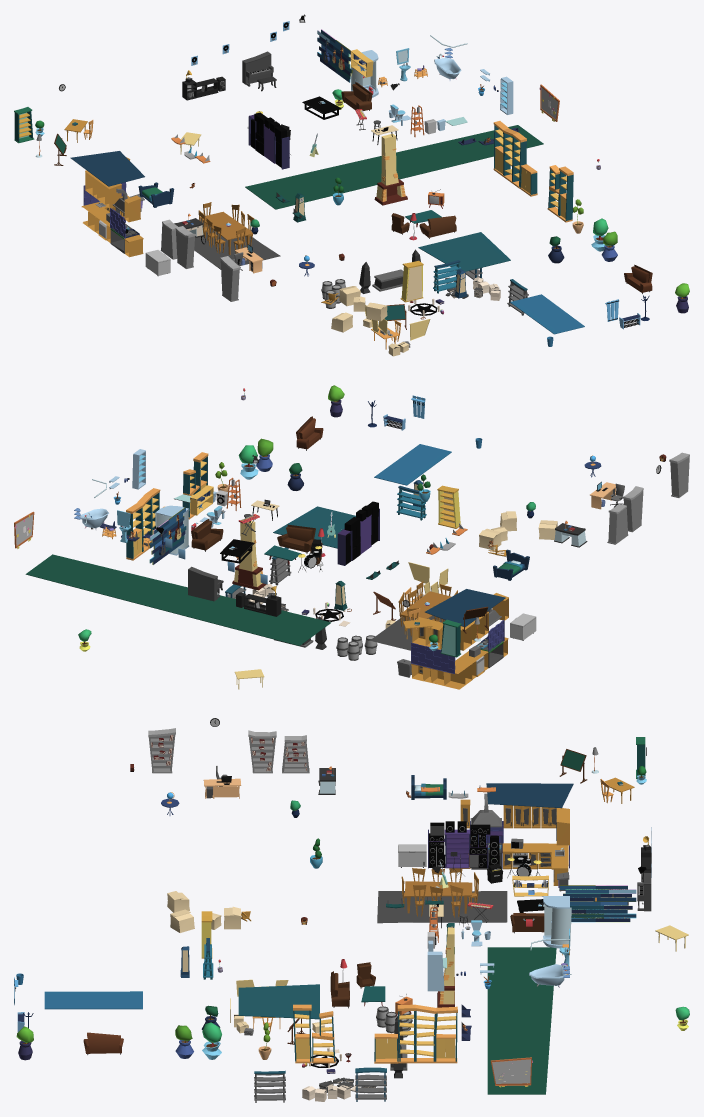
File: static stuff for house.fbx
3 views of the same model, one above another, from view 1: azimuth 30°, elevation 25°; view 2: azimuth 150°, elevation 25°; view 3: azimuth 270°, elevation 25° (orthographic). The views are drawn at different scales.
Visible parts, largest first — view 1: static stuff fork room.003, static stuff kitchen room.003, static stuff living room, static stuff living room.007, static stuff music room.006, static stuff music room.001, static stuff bedroom room.005, static stuff hallway room.005, static stuff living room.010, static stuff kitchen room.004, static stuff living room.011, static stuff music room.002 (+19 smaller); view 2: static stuff fork room.003, static stuff kitchen room.003, static stuff music room.006, static stuff music room.001, static stuff hallway room.005, static stuff living room, static stuff bedroom room.005, static stuff living room.007, static stuff living room.010, static stuff music room.002, static stuff living room.011, static stuff living room.005 (+25 smaller); view 3: static stuff fork room.003, static stuff kitchen room.003, static stuff living room, static stuff music room.006, static stuff kitchen room.004, static stuff music room.001, static stuff living room.007, static stuff bedroom room.005, static stuff hallway room.005, static stuff living room.011, static stuff toilet room.003, static stuff kitchen room.005 (+15 smaller).
Part boxes in pixels (left/top/right/bottom): static stuff fork room.003: left=245, top=125, right=543, bottom=209; static stuff kitchen room.003: left=81, top=157, right=143, bottom=257; static stuff living room: left=493, top=121, right=537, bottom=196; static stuff living room.007: left=418, top=232, right=510, bottom=271; static stuff music room.006: left=248, top=112, right=289, bottom=169; static stuff music room.001: left=317, top=29, right=373, bottom=82; static stuff bedroom room.005: left=70, top=151, right=144, bottom=186; static stuff hallway room.005: left=510, top=294, right=584, bottom=334; static stuff living room.010: left=374, top=133, right=407, bottom=205; static stuff kitchen room.004: left=194, top=219, right=280, bottom=269; static stuff living room.011: left=547, top=165, right=573, bottom=222; static stuff music room.002: left=182, top=14, right=305, bottom=100; static stuff fork room.003: left=25, top=554, right=331, bottom=645; static stuff kitchen room.003: left=411, top=593, right=508, bottom=689; static stuff music room.006: left=337, top=501, right=379, bottom=565; static stuff music room.001: left=149, top=485, right=213, bottom=564; static stuff hallway room.005: left=374, top=444, right=451, bottom=485; static stuff living room: left=126, top=488, right=164, bottom=560; static stuff bedroom room.005: left=425, top=589, right=505, bottom=627; static stuff living room.007: left=273, top=506, right=355, bottom=548; static stuff living room.010: left=232, top=521, right=266, bottom=590; static stuff music room.002: left=155, top=526, right=281, bottom=616; static stuff living room.011: left=182, top=452, right=208, bottom=519; static stuff living room.005: left=437, top=485, right=461, bottom=528; static stuff fork room.003: left=487, top=947, right=556, bottom=1094; static stuff kitchen room.003: left=460, top=793, right=569, bottom=885; static stuff living room: left=374, top=1004, right=457, bottom=1063; static stuff music room.006: left=428, top=821, right=502, bottom=868; static stuff kitchen room.004: left=377, top=891, right=507, bottom=923; static stuff music room.001: left=512, top=875, right=636, bottom=922; static stuff living room.007: left=238, top=984, right=319, bottom=1019; static stuff bedroom room.005: left=486, top=783, right=573, bottom=808; static stuff hallway room.005: left=44, top=991, right=142, bottom=1009; static stuff living room.011: left=293, top=1004, right=335, bottom=1063; static stuff toilet room.003: left=523, top=896, right=571, bottom=948; static stuff kitchen room.005: left=401, top=868, right=478, bottom=917.
Bounding box in the file's own units: 4365 × 1611 × 4744.
1 material, 1 textured.
